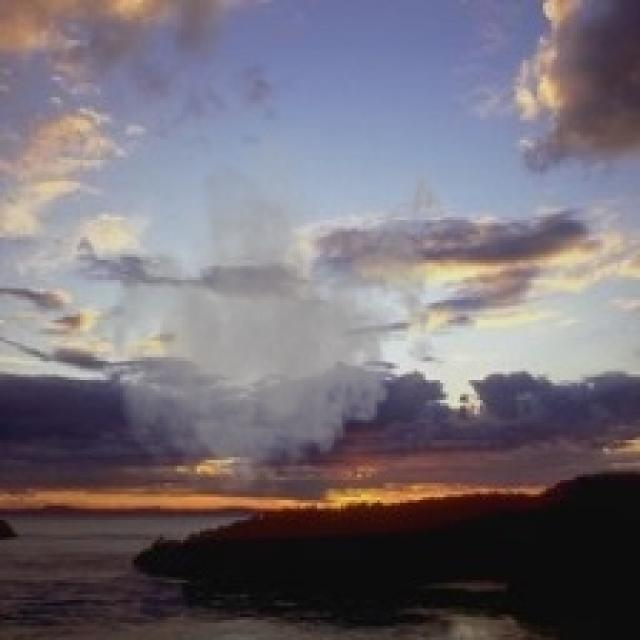Smoke: (86, 106, 457, 506)
